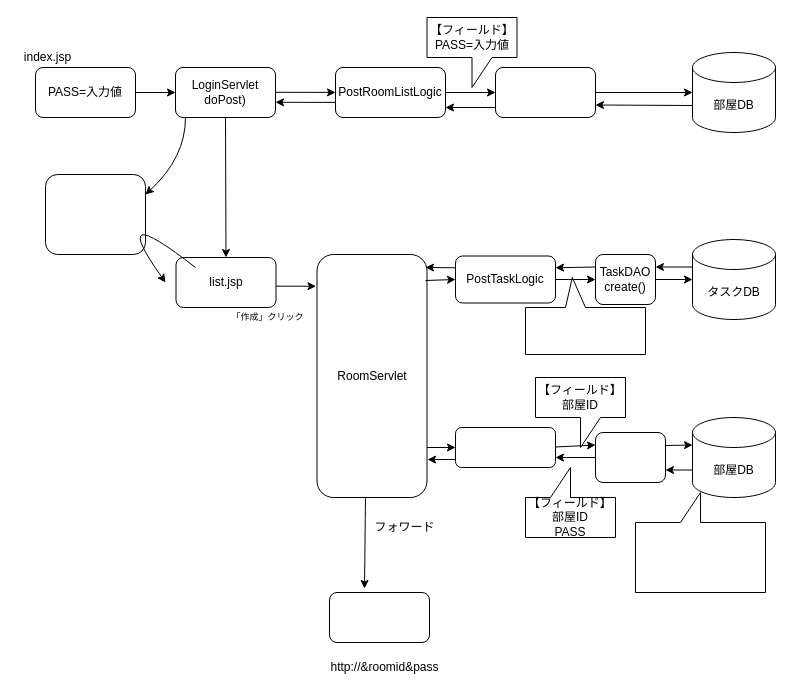
Image size: 793x695. Some labels were removed from this diagram. The shapes that lost their labels are listed below. From the top down, each one's centre as x and y in pixels, then its label:
pixel 545 92: RoomDAO create()
pixel 95 214: sessionスコープ "部屋ID"
pixel 585 315: 【フィールド】 String Task
pixel 505 447: GetRoomLogic
pixel 630 457: RoomDAO find()
pixel 700 542: 部屋IDと同等の 部屋IDとPASSを 参照
pixel 379 617: room.jsp
